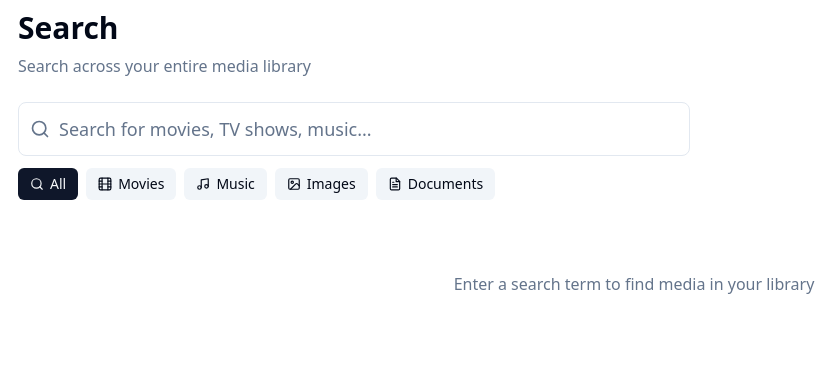
Test: SearchPage › displays quality badge when result has quality info
In the field with placeholder "Search for movies, TV shows, music...": (354, 129) [18, 102, 690, 156], type "HD"
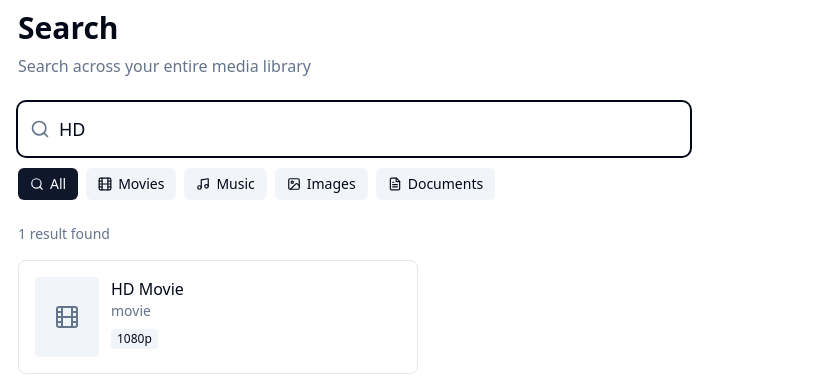
Expected: the text "1080p" is shown, [111, 329, 158, 349]
